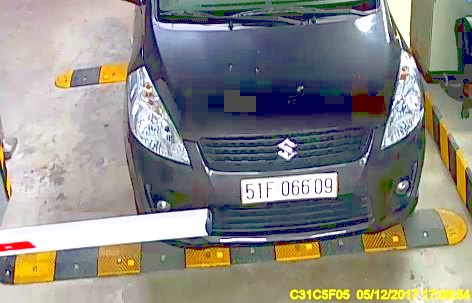plate: (239, 171, 338, 202)
